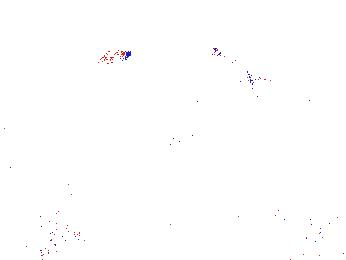glassfish: (163, 131, 259, 183)
red belly glassfish: (72, 45, 134, 65)
redtail glassfish: (211, 47, 260, 90)
